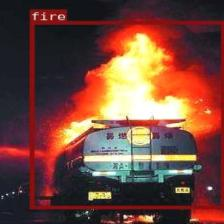fire: (29, 20, 224, 208)
